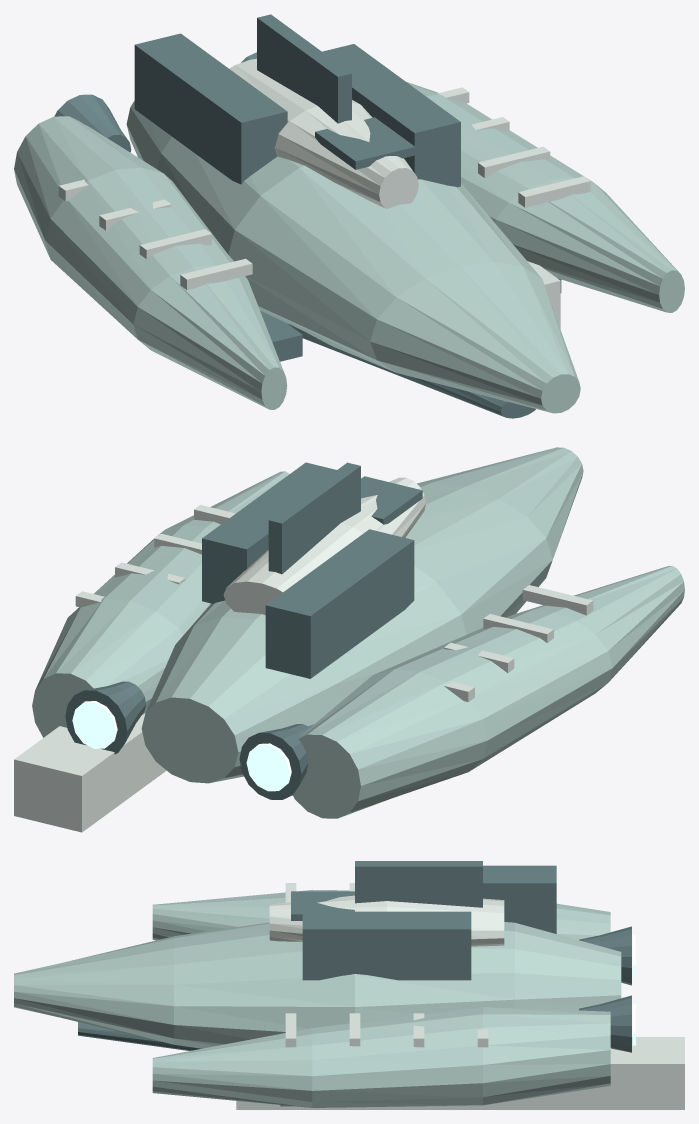
3 views of the same model, one above another, from view 1: azimuth 30°, elevation 25°; view 2: azimuth 150°, elevation 25°; view 3: azimuth 270°, elevation 25° (orthographic). The views are drawn at different scales.
Bounding box in the file's own units: 6.19 × 3.05 × 9.55.
